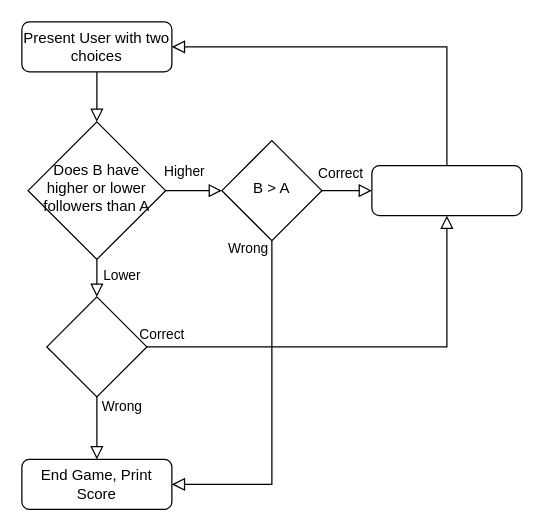
Some shapes in this 544 by 531 pixel diagram are drawn without their labels. The shapes that lost their labels are listed below. From the top down, each one's centre as x and y in pixels, then its label:
At [446,190]: "Add +1 to score".
At [96,346]: "B < A".
